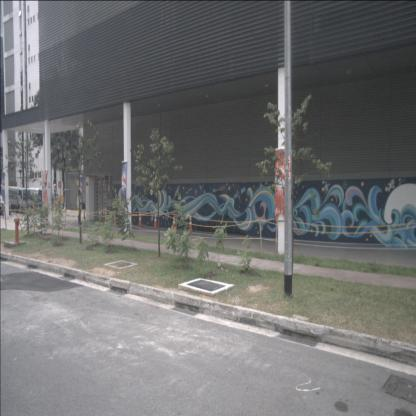human-pedestrian-adult: (77, 190, 82, 224)
movable_object-trafficcone: (171, 214, 177, 232), (137, 211, 143, 227), (188, 215, 193, 232), (153, 213, 158, 229), (113, 211, 117, 227)
vehicle-car: (0, 194, 8, 215)
vehicle-truck: (4, 186, 31, 214), (25, 188, 49, 212)
